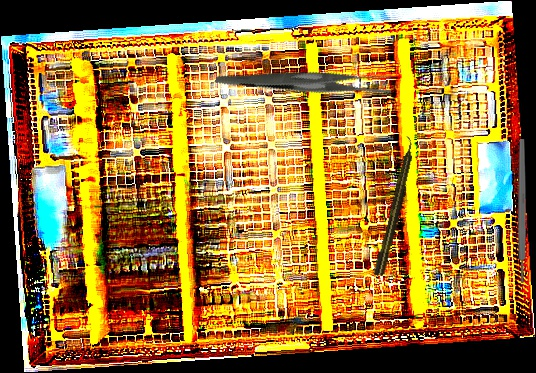Dressing Forceps: (214, 20, 397, 140)
Handpiece: (371, 135, 420, 279)
Scalpel Handle: (518, 139, 526, 283)
